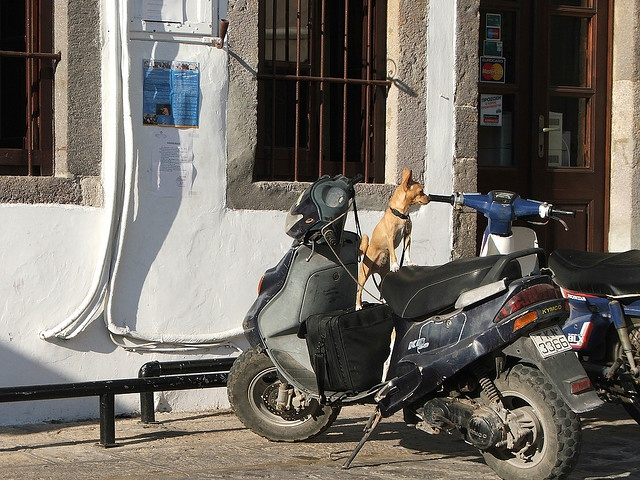non-vehicle: (226, 175, 604, 479), (427, 188, 639, 426)
